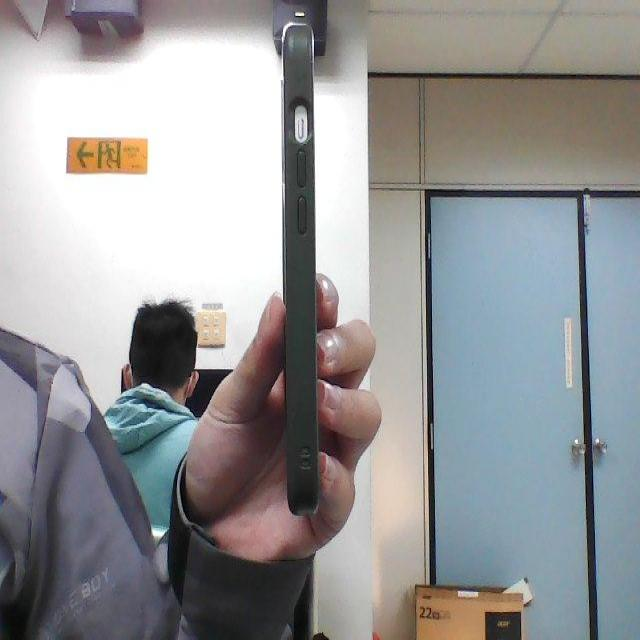Smartphone: (272, 14, 328, 528)
